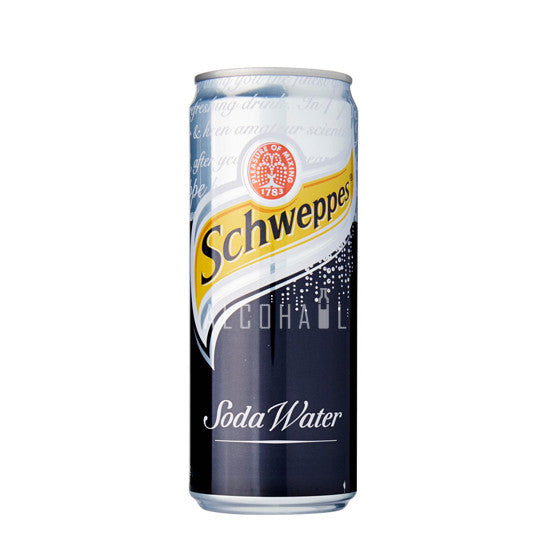Can: (186, 67, 359, 516)
